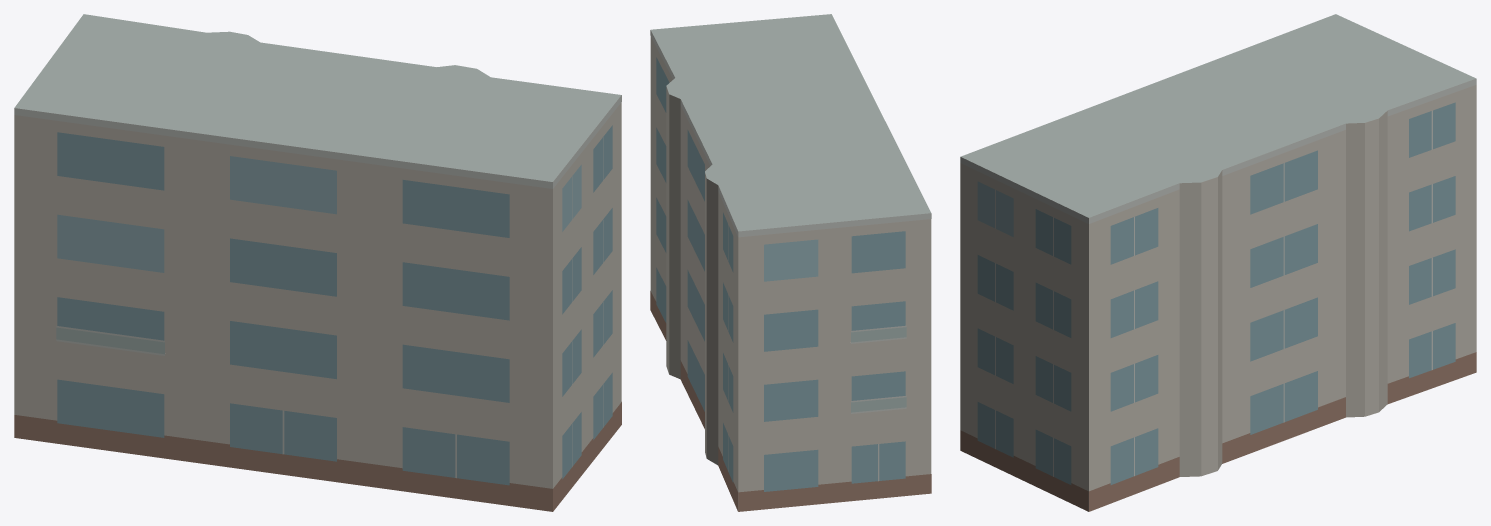
The model's file is survey-upis-32569267.glb.
The picture shows the model from 3 angles, left to right: view 1: azimuth 30°, elevation 25°; view 2: azimuth 150°, elevation 25°; view 3: azimuth 270°, elevation 25°; orthographic projection. The views are drawn at different scales.
Parts seen in each view (by area): view 1: survey-upis-32569267.tmp; view 2: survey-upis-32569267.tmp; view 3: survey-upis-32569267.tmp.
Part boxes in pixels (bbox=[...]): survey-upis-32569267.tmp: bbox=[14, 14, 621, 511]; survey-upis-32569267.tmp: bbox=[650, 14, 931, 511]; survey-upis-32569267.tmp: bbox=[960, 14, 1476, 511].
Bounding box in the file's own units: 17.35 × 11.65 × 18.55.
